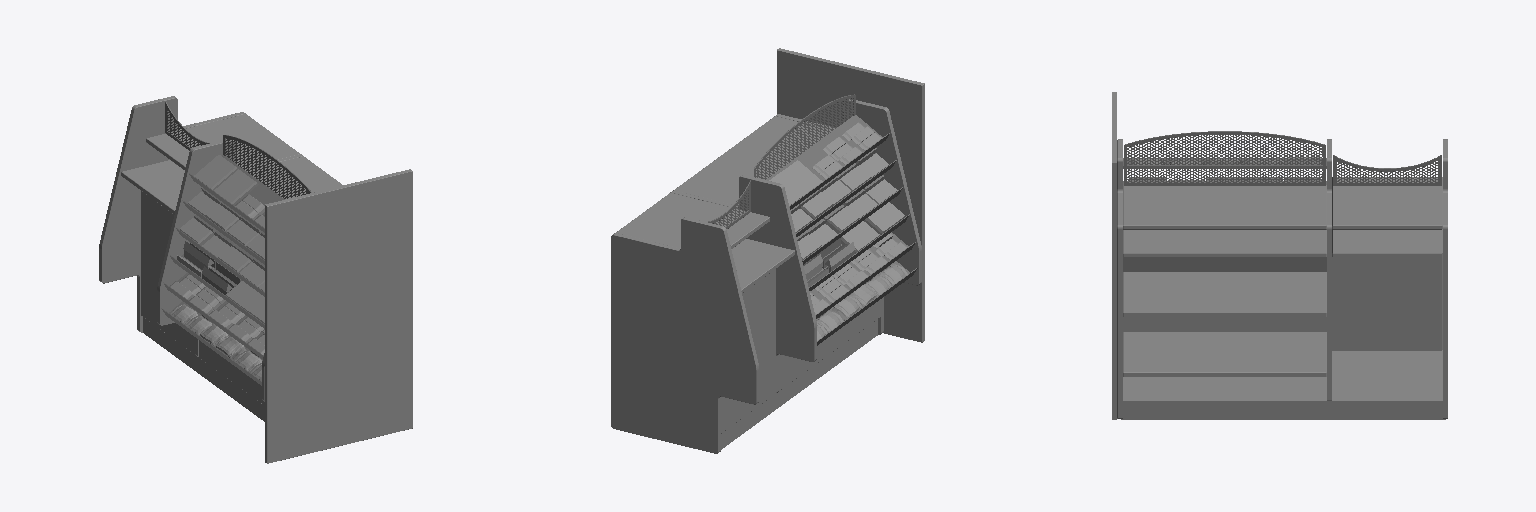
File: Dulces.obj
The picture shows the model from 3 angles: view 1: azimuth 30°, elevation 25°; view 2: azimuth 150°, elevation 25°; view 3: azimuth 270°, elevation 25°; orthographic projection.
Visible parts, largest first — view 1: Arch_44__025_146, Arch_44__025_2, Arch_44__025_1, Arch_44__025_147, Arch_44__025_129, Arch_44__025_130, Arch_44__025_56; view 2: Arch_44__025_146, Arch_44__025_2, Arch_44__025_1, Arch_44__025_147, Arch_44__025_130, Arch_44__025_58, Arch_44__025_56; view 3: Arch_44__025_146, Arch_44__025_147, Arch_44__025_1, Arch_44__025_2.
Boxes of the visible parts, <box> form: Arch_44__025_146: <box>99,96,412,463</box>; Arch_44__025_2: <box>161,155,284,385</box>; Arch_44__025_1: <box>165,102,311,198</box>; Arch_44__025_147: <box>143,317,264,421</box>; Arch_44__025_129: <box>194,155,236,189</box>; Arch_44__025_130: <box>214,169,256,203</box>; Arch_44__025_56: <box>226,281,262,311</box>; Arch_44__025_146: <box>611,48,924,453</box>; Arch_44__025_2: <box>766,115,917,345</box>; Arch_44__025_1: <box>708,94,855,228</box>; Arch_44__025_147: <box>721,319,877,449</box>; Arch_44__025_130: <box>782,160,822,193</box>; Arch_44__025_58: <box>865,202,904,233</box>; Arch_44__025_56: <box>841,221,879,252</box>; Arch_44__025_146: <box>1112,92,1447,419</box>; Arch_44__025_147: <box>1121,350,1445,419</box>; Arch_44__025_1: <box>1124,131,1441,185</box>; Arch_44__025_2: <box>1123,158,1326,184</box>.
Size of the model in its own units: 28.03 by 47.31 by 56.07.